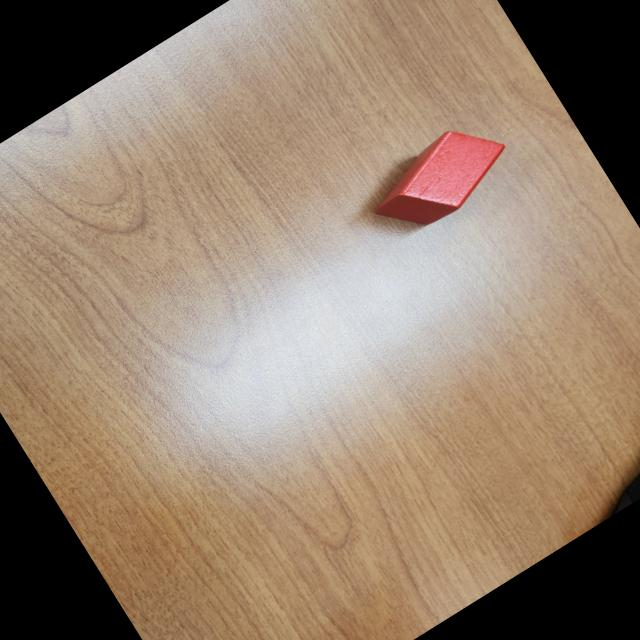red: (358, 108, 520, 248)
